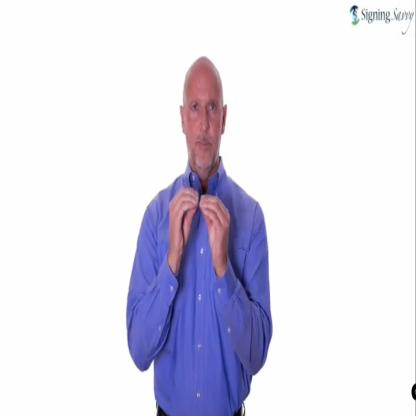Fix: (162, 174, 237, 286)
